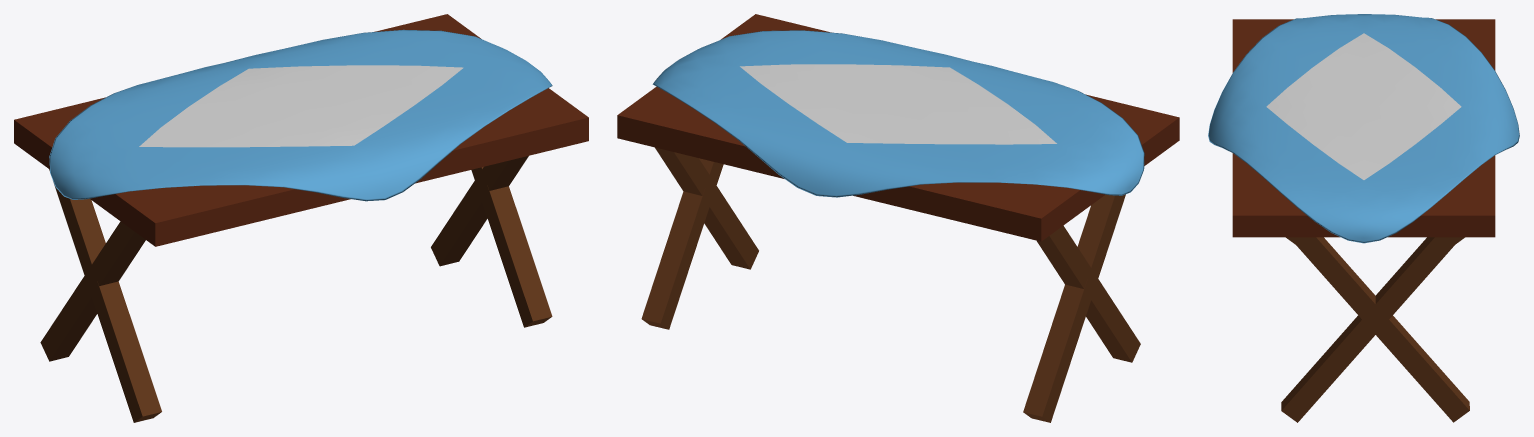
The model's file is Tisch.fbx.
The picture shows the model from 3 angles, left to right: view 1: azimuth 30°, elevation 25°; view 2: azimuth 150°, elevation 25°; view 3: azimuth 270°, elevation 25°; orthographic projection. The views are drawn at different scales.
Parts seen in each view (by area): view 1: Plane, Cube, Cube.001, Cube.004, Cube.002, Cube.003; view 2: Plane, Cube, Cube.002, Cube.003, Cube.001, Cube.004; view 3: Plane, Cube, Cube.004, Cube.003.
Part boxes in pixels (box(x1,y1,x2,y2)): Plane: box(49, 29, 552, 201); Cube: box(14, 14, 588, 246); Cube.001: box(49, 169, 161, 422); Cube.004: box(471, 167, 552, 327); Cube.002: box(40, 221, 145, 361); Cube.003: box(431, 156, 528, 266); Plane: box(652, 30, 1144, 197); Cube: box(617, 14, 1179, 241); Cube.002: box(1023, 194, 1125, 422); Cube.003: box(641, 158, 723, 329); Cube.001: box(1037, 225, 1140, 362); Cube.004: box(655, 147, 758, 269); Plane: box(1208, 14, 1519, 243); Cube: box(1232, 19, 1495, 237); Cube.004: box(1281, 237, 1461, 422); Cube.003: box(1289, 237, 1469, 422).
Bounding box in the file's own units: 518 × 251 × 317.
